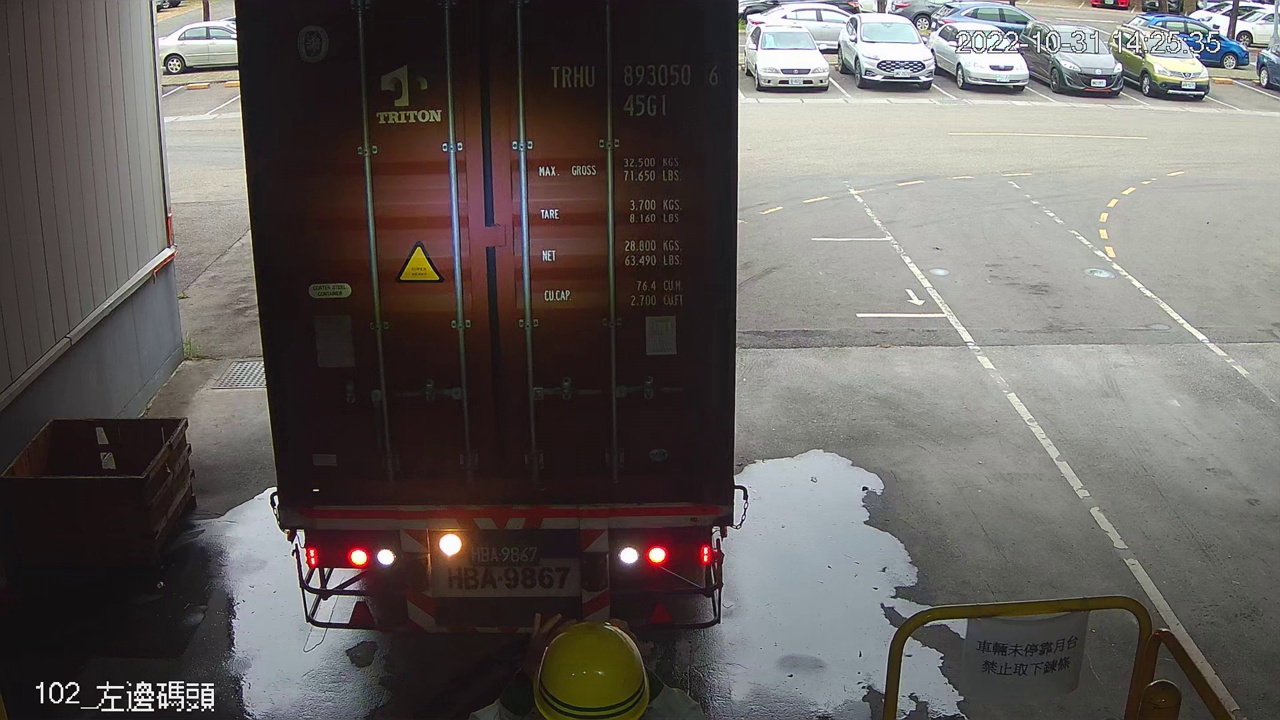container: (540, 51, 725, 128)
